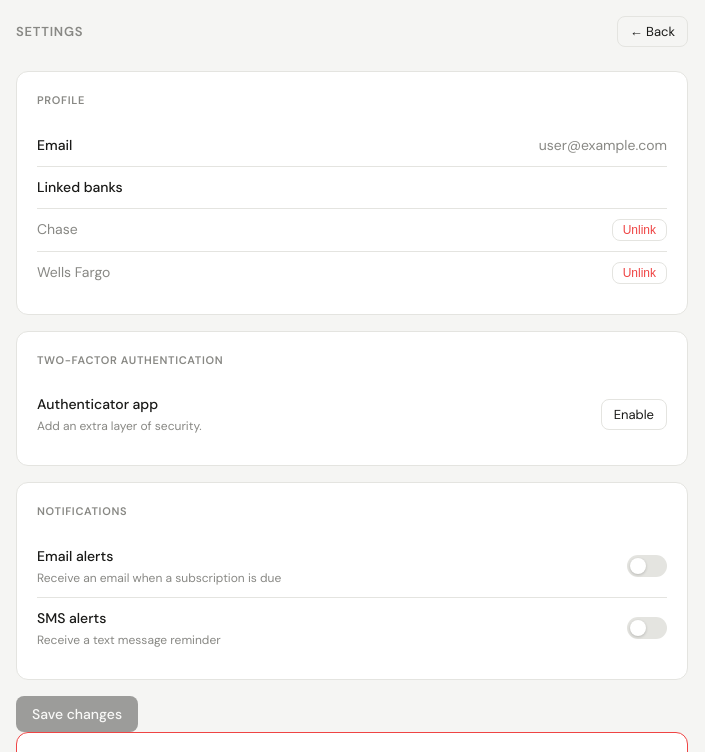
Scenario: Settings — unlink account › removes the account from the list after successful unlink
Expected: the text "Chase" is shown, [37,219,78,240]
Click the button with aria-label "unlink chase". click: [639, 230]
box: [612,218,667,240]
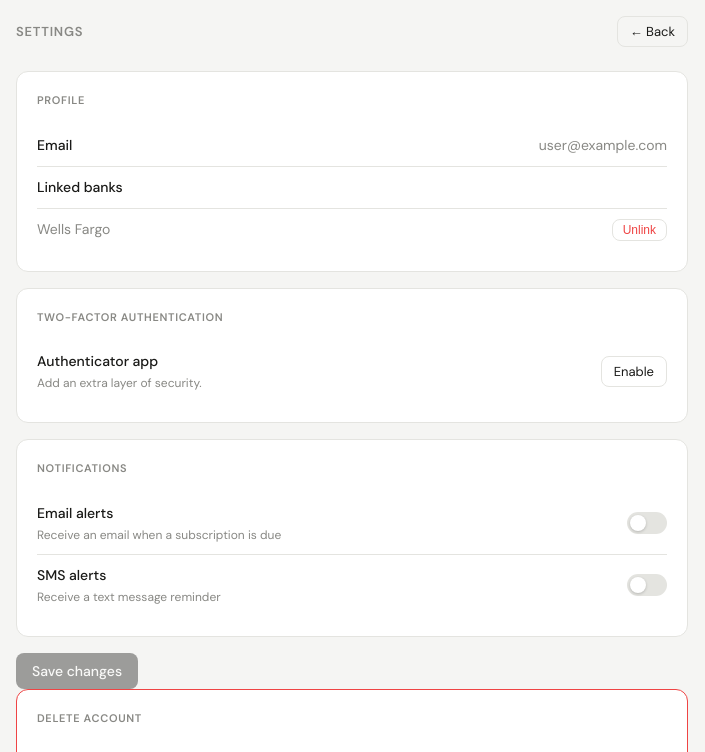
Expected: the text "Wells Fargo" is shown, [37,219,110,240]
Expected: the text "Chase" is gone
